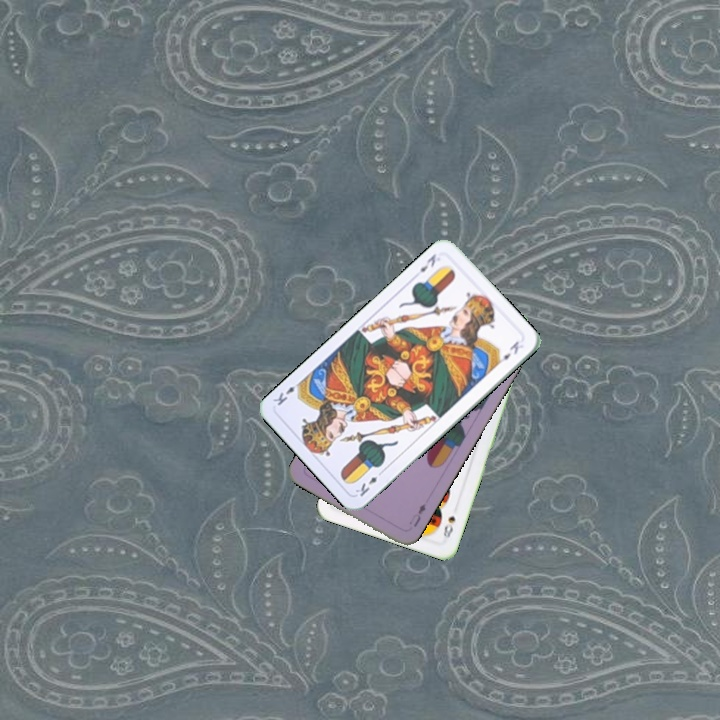EK: (351, 466, 386, 499), (410, 250, 439, 279)
EU: (405, 496, 430, 530)
S8: (438, 512, 458, 541)
